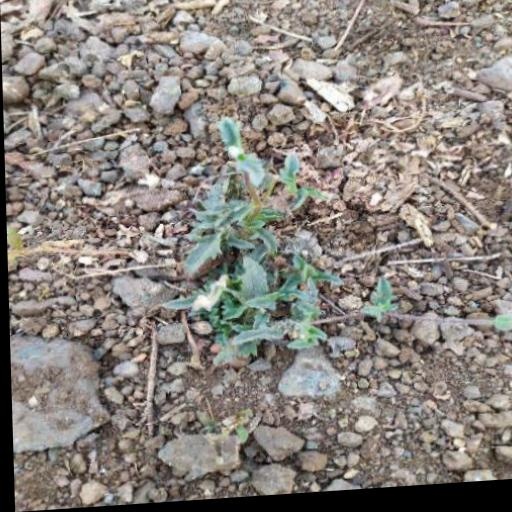weed: (163, 122, 401, 372)
